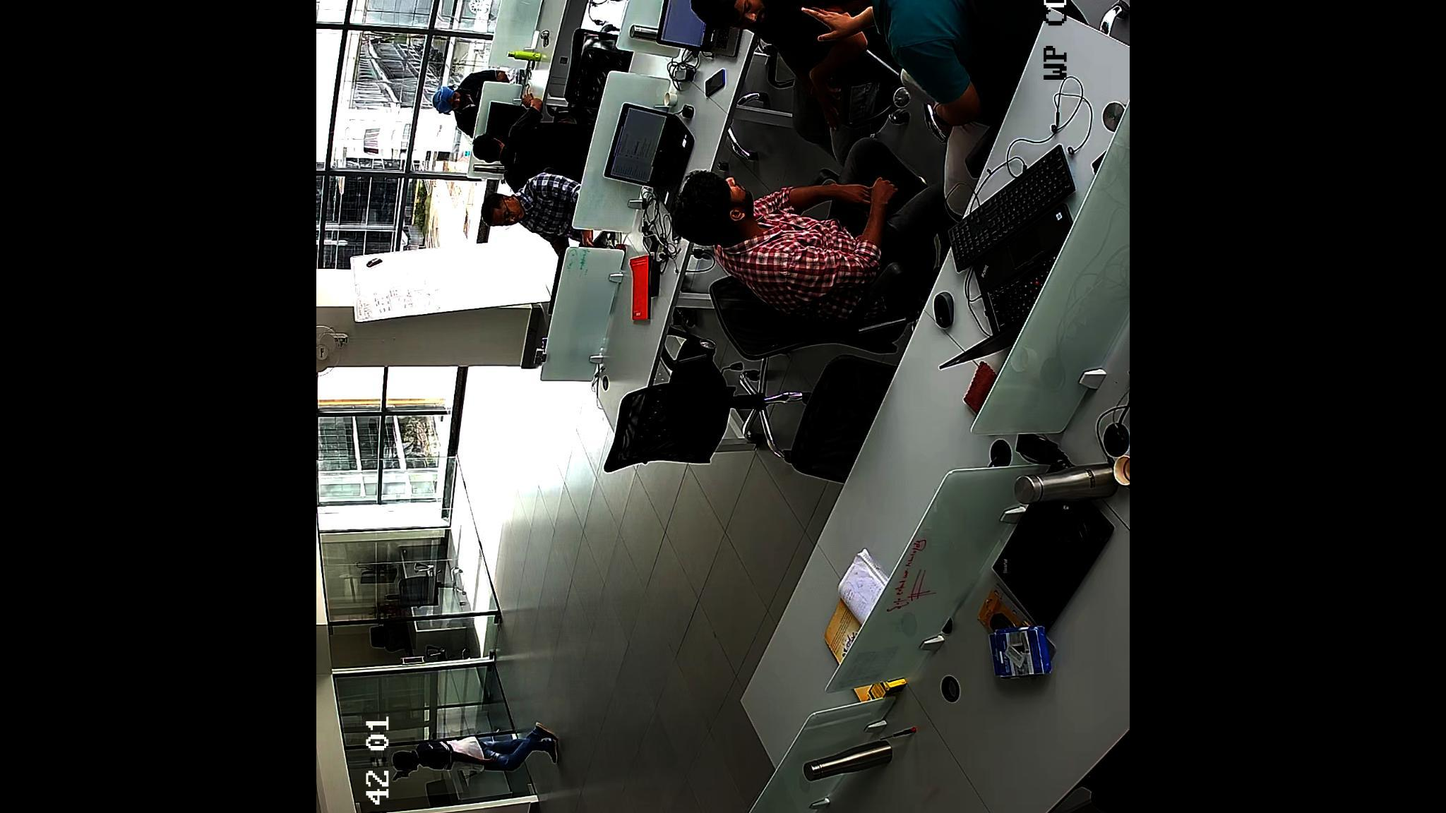gun: (393, 770, 410, 780)
